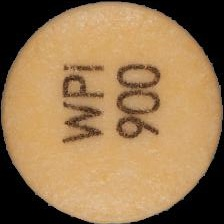68084-295: (0, 0, 224, 224)
